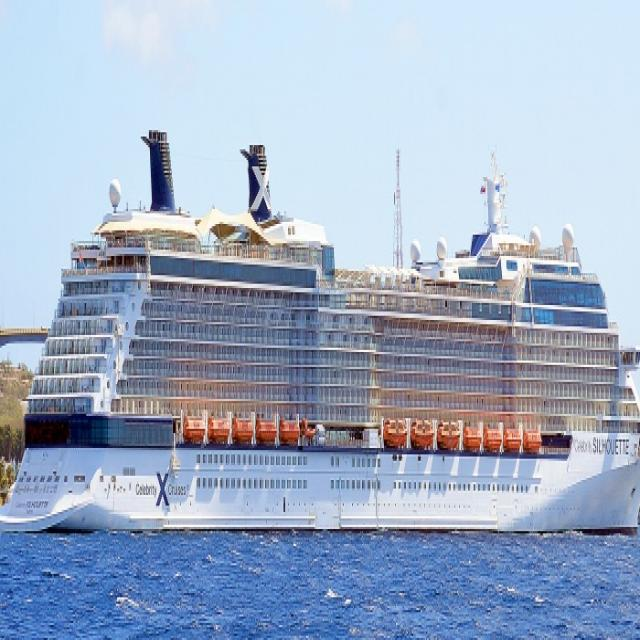cruises: (1, 123, 640, 545)
